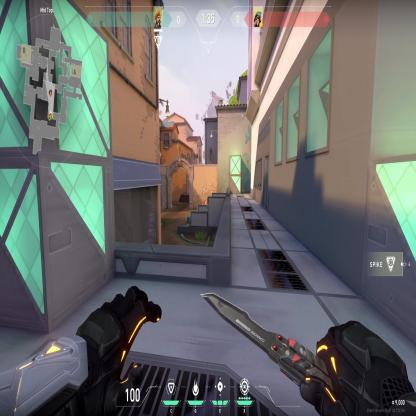enemy: (202, 198, 207, 206)
